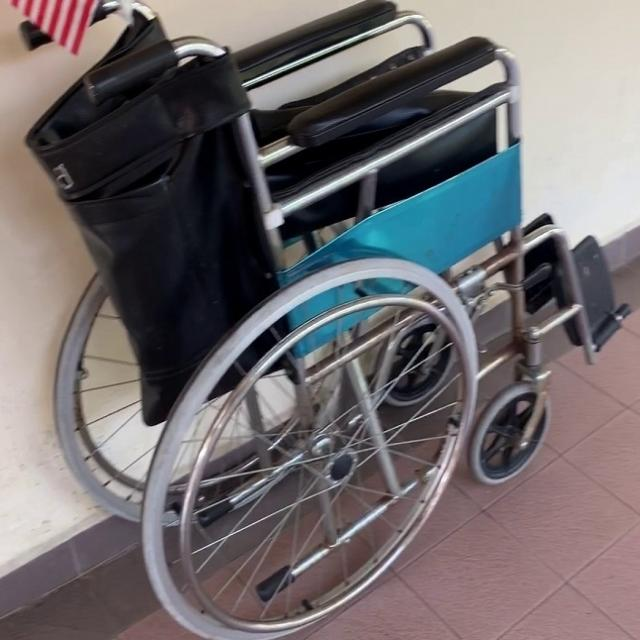wheelchair: (2, 0, 633, 640)
